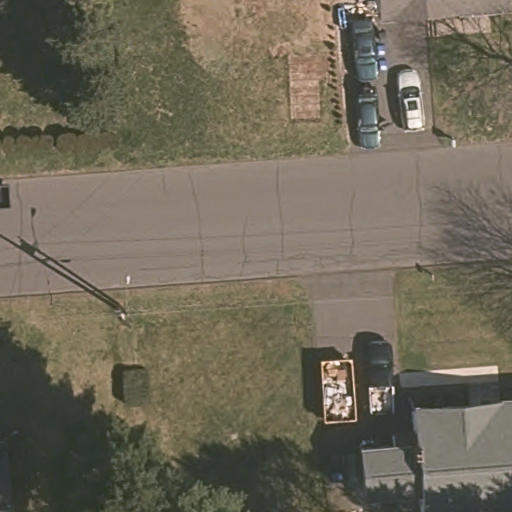DT: (109, 274, 142, 326)
